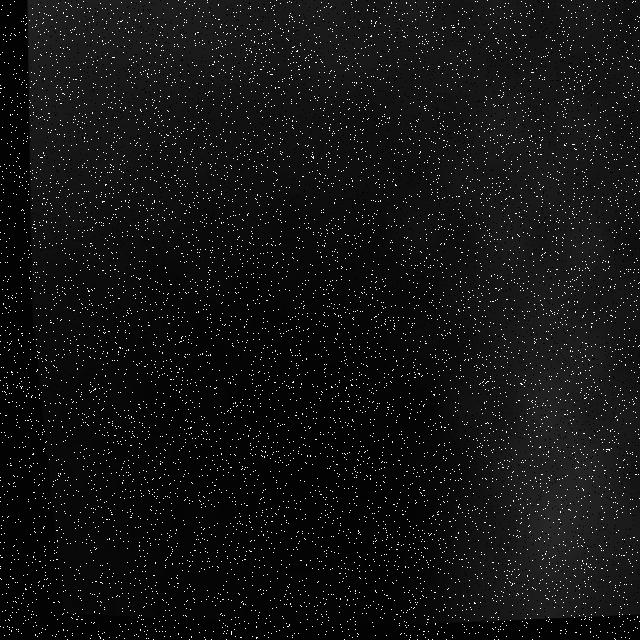person: (365, 88, 640, 629)
